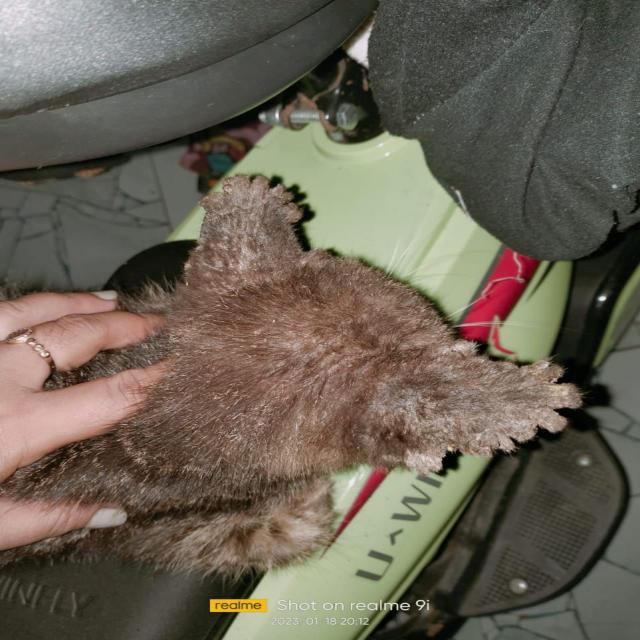cat-scabies: (358, 320, 596, 484), (178, 164, 343, 304)
